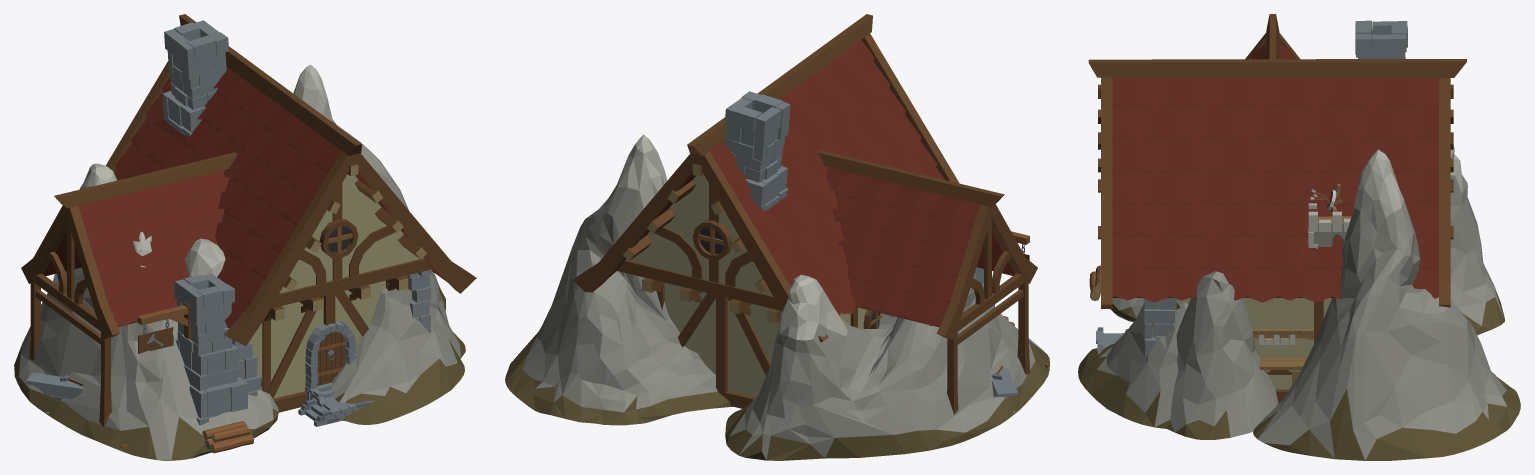
The model's file is rts.glb.
3 renders of one model, left to right at view 1: azimuth 30°, elevation 25°; view 2: azimuth 150°, elevation 25°; view 3: azimuth 270°, elevation 25°, orthographic. The views are drawn at different scales.
Parts seen in each view (by area): view 1: Blacksmith, Mountain_Group_1, Mountain_Group_2; view 2: Blacksmith, Mountain_Group_1; view 3: Blacksmith, Mountain_Group_1, Mountain_Group_2, Archery_SecondAge_Level3, Barracks_FirstAge_Level3, Houses_FirstAge_2_Level2.
Part boxes in pixels (x1=…): Blacksmith: x1=21, y1=14, x2=476, y2=453; Mountain_Group_1: x1=14, y1=64, x2=464, y2=460; Mountain_Group_2: x1=185, y1=238, x2=465, y2=358; Blacksmith: x1=573, y1=14, x2=1049, y2=414; Mountain_Group_1: x1=505, y1=134, x2=1049, y2=460; Blacksmith: x1=1088, y1=14, x2=1466, y2=402; Mountain_Group_1: x1=1078, y1=146, x2=1520, y2=460; Mountain_Group_2: x1=1166, y1=271, x2=1279, y2=439; Archery_SecondAge_Level3: x1=1308, y1=184, x2=1351, y2=248; Barracks_FirstAge_Level3: x1=1257, y1=247, x2=1306, y2=384; Houses_FirstAge_2_Level2: x1=1252, y1=328, x2=1313, y2=339.
Size of the model in its own units: 4.71 by 3.25 by 3.84.
